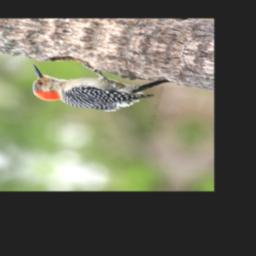Woodpecker: (18, 54, 179, 126)
